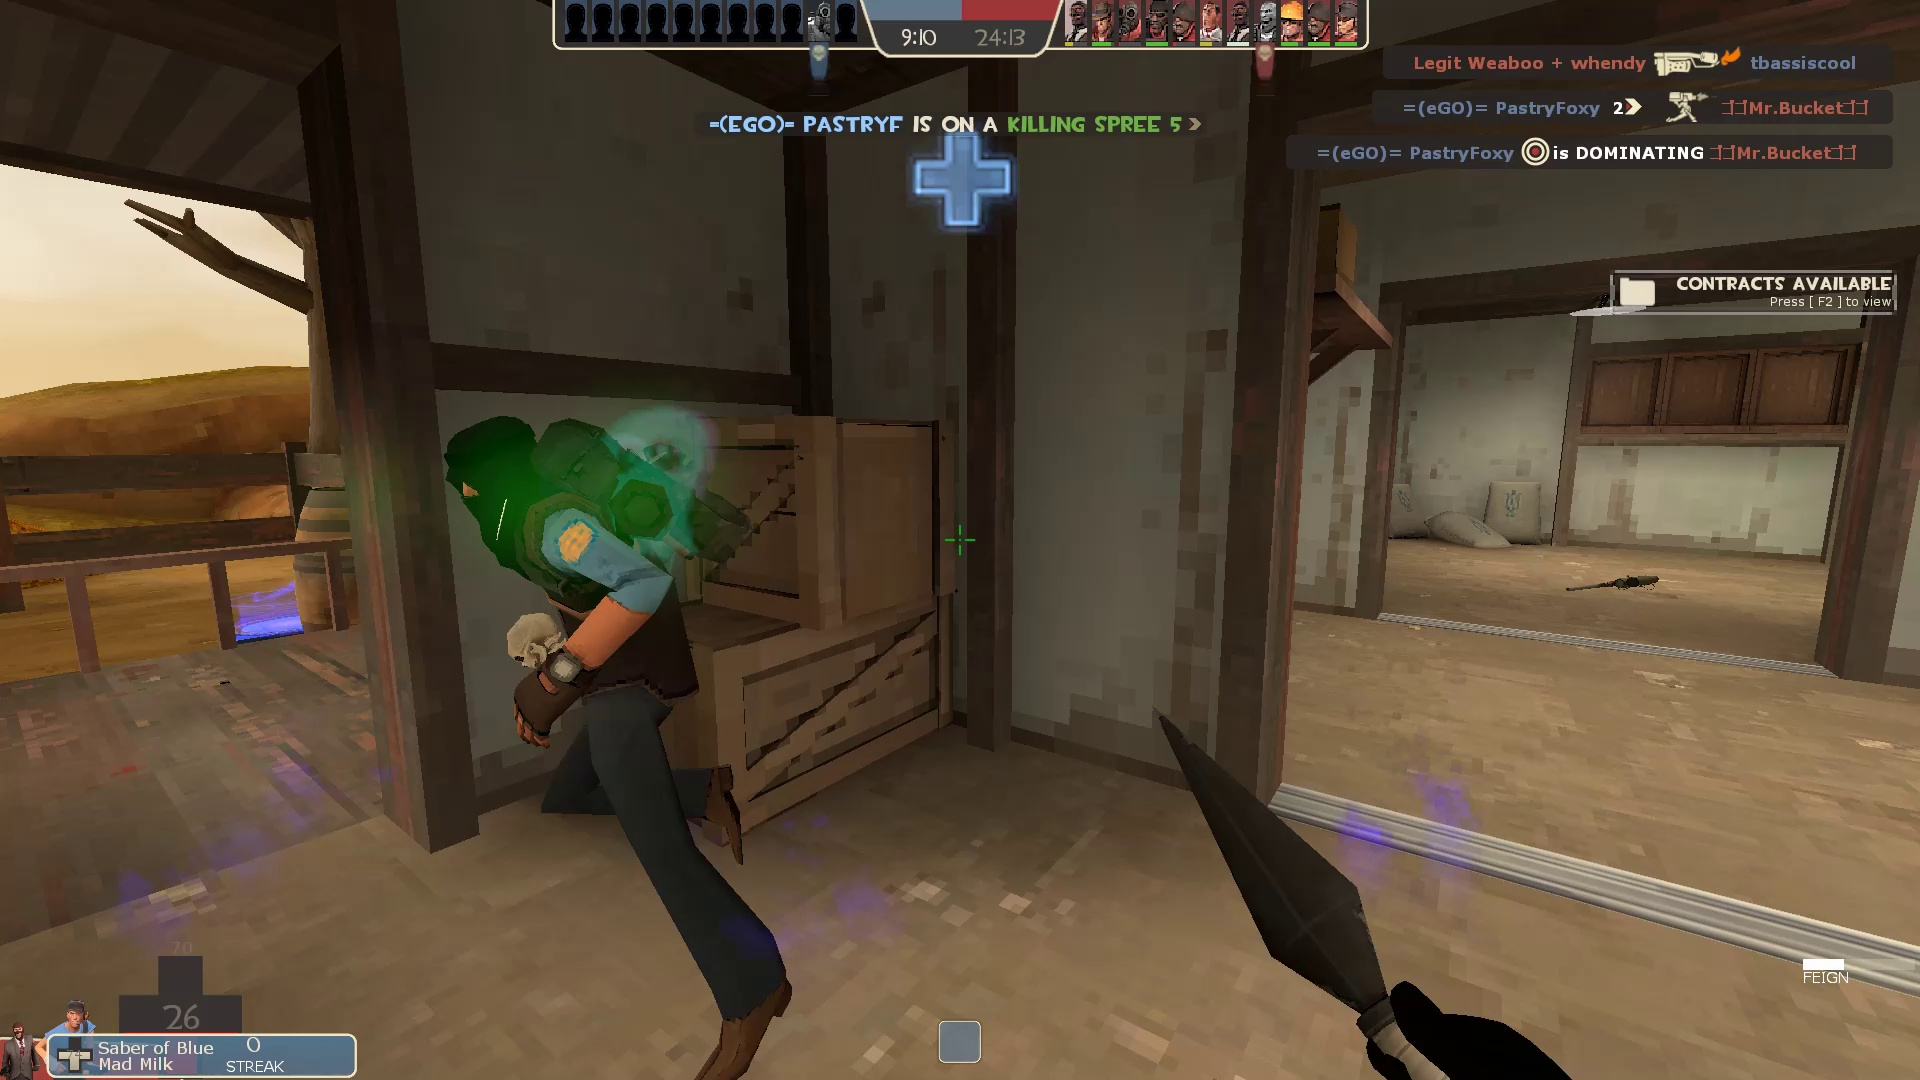blu_sniper: (436, 409, 808, 1080)
